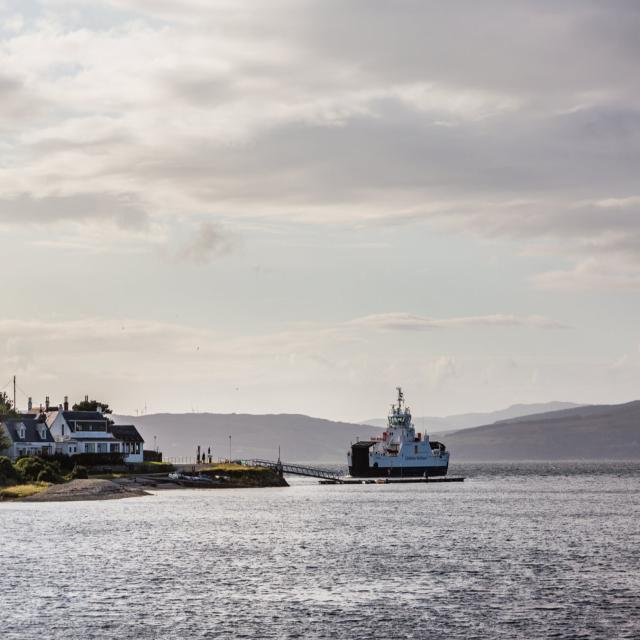fishing boat: (347, 400, 454, 474)
